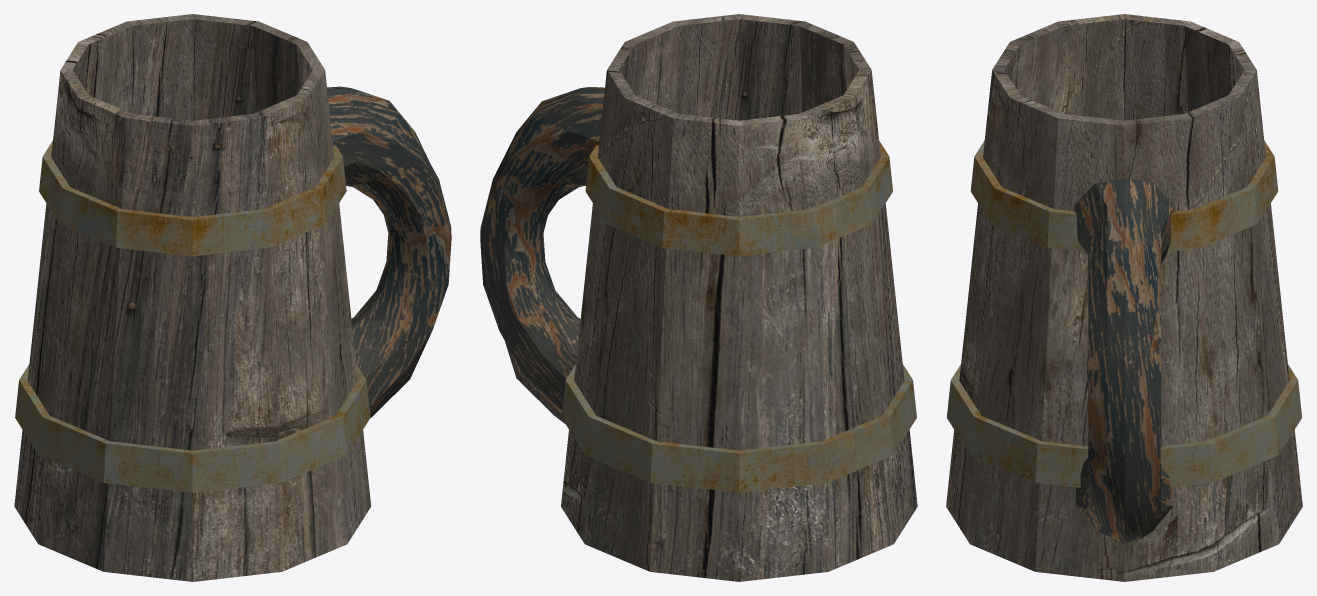
The model's file is Tankard.fbx.
The picture shows the model from 3 angles, left to right: view 1: azimuth 30°, elevation 25°; view 2: azimuth 150°, elevation 25°; view 3: azimuth 270°, elevation 25°; orthographic projection.
Parts seen in each view (by area): view 1: Body, Handle; view 2: Body, Handle; view 3: Body, Handle.
Part boxes in pixels (x1,y1,x2,y2): Body: (14, 14, 371, 581); Handle: (327, 86, 451, 418); Body: (561, 14, 917, 581); Handle: (480, 87, 604, 424); Body: (946, 14, 1302, 581); Handle: (1074, 178, 1174, 542).
Bounding box in the file's own units: 19.72 × 20.25 × 15.
Materials: 3 (3 with a texture image).
